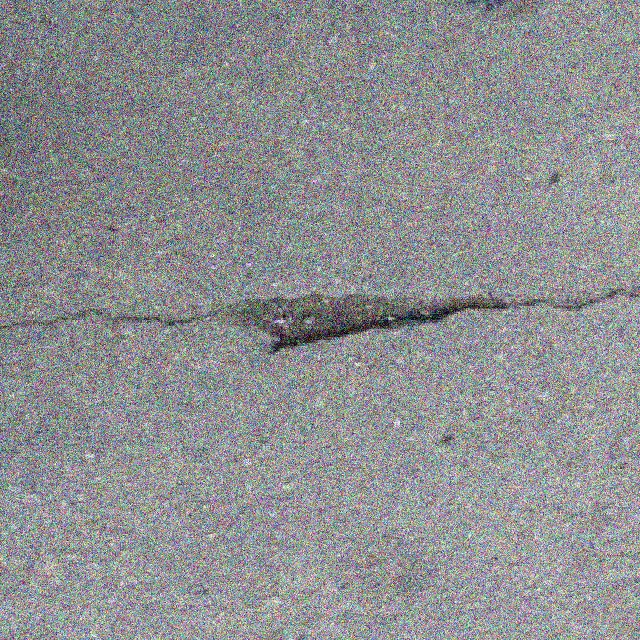SurfaceCrack: (4, 258, 640, 376)
